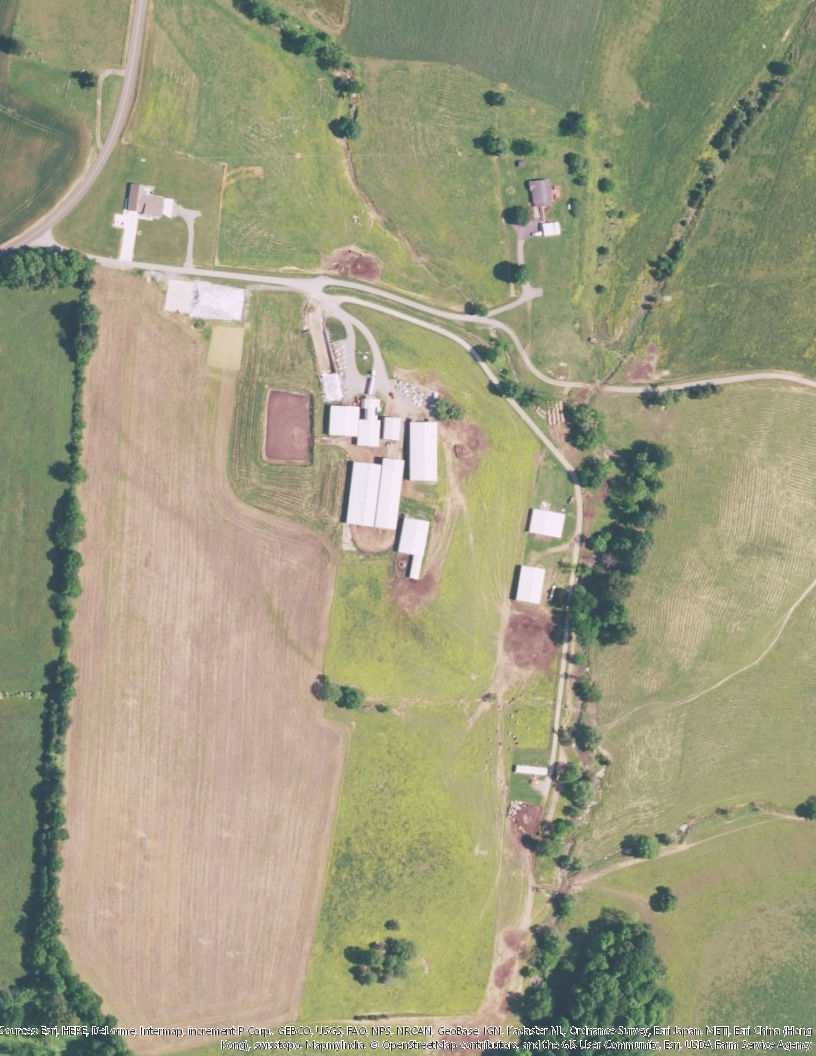cafo: (341, 449, 408, 531), (326, 395, 412, 450), (394, 512, 430, 584), (406, 422, 446, 484), (523, 502, 568, 537), (514, 564, 549, 603)
